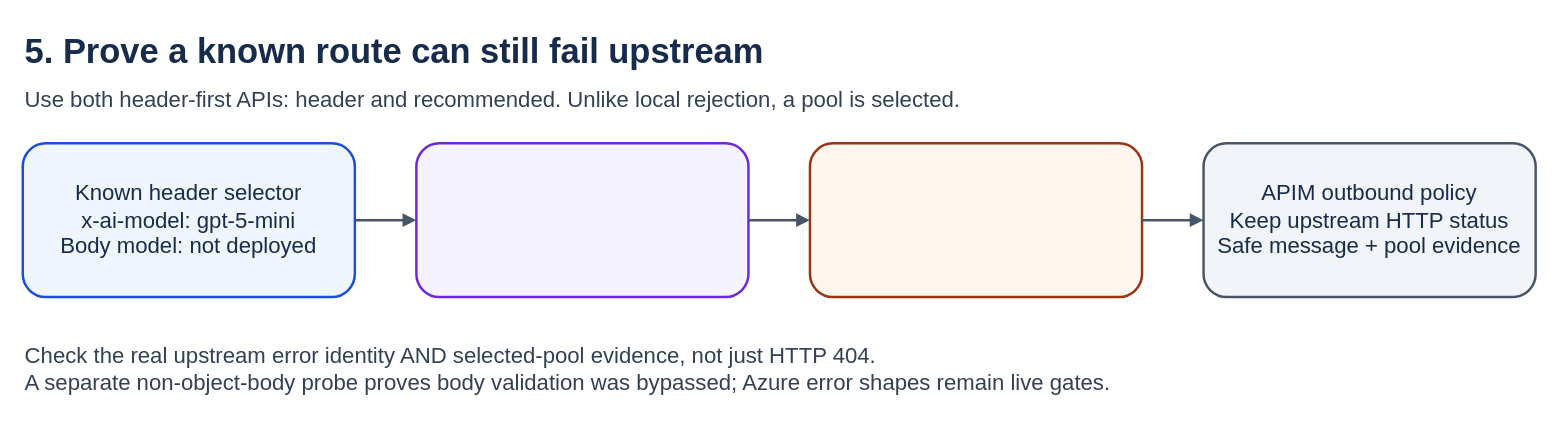
This 1558x434 diagram has some shape labels left out. The shapes that lost their labels are listed below. From the top down, each one's centre as x and y in pixels, then its label:
At [582,219]: "APIM header-first route Select known pool Do not read / rewrite body".
At [975,219]: "Foundry rejects request 404 deployment-not-found or 400 for non-object body".
